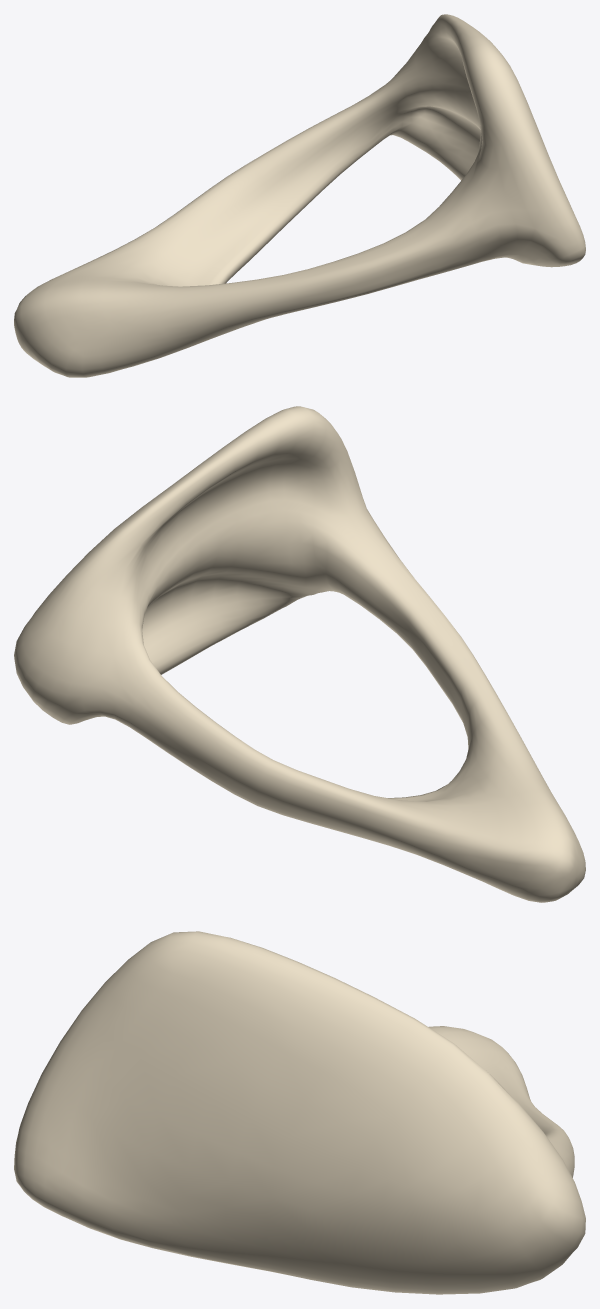
Rendered from stapes-r.glb.
3 views of the same model, one above another, from view 1: azimuth 30°, elevation 25°; view 2: azimuth 150°, elevation 25°; view 3: azimuth 270°, elevation 25° (orthographic). The views are drawn at different scales.
Visible parts, largest first — view 1: Stapes.r; view 2: Stapes.r; view 3: Stapes.r.
Boxes of the visible parts, x1=… form: Stapes.r: x1=14, y1=14, x2=585, y2=377; Stapes.r: x1=14, y1=406, x2=585, y2=902; Stapes.r: x1=14, y1=931, x2=585, y2=1294.
Size of the model in its own units: 0.00405 by 0.00243 by 0.00305.
